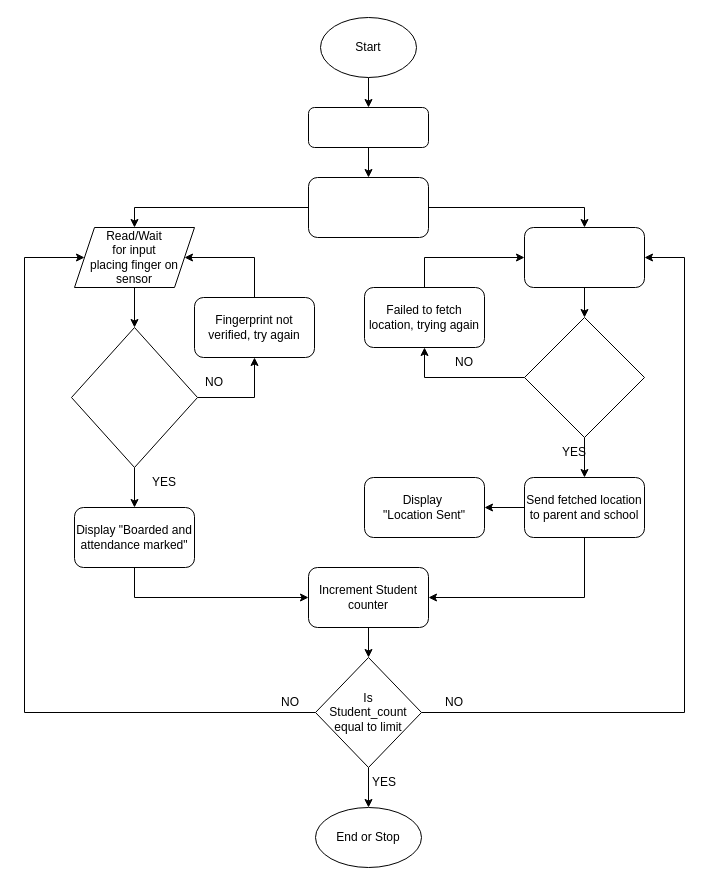
Image size: 710x885. Some labels were removed from this diagram. Here are the shapes that lost their labels. From the top down, the centre of each, then its label:
At [368,127]: "Powering all components".
At [368,207]: "Wait for a set time to check Wi-Fi connection & sensor power-on".
At [584,257]: "Start fetching live location through GPS module".
At [134,397]: "Is the finger verified ? (checking against DB)".
At [584,377]: "Is location fetched ?".
